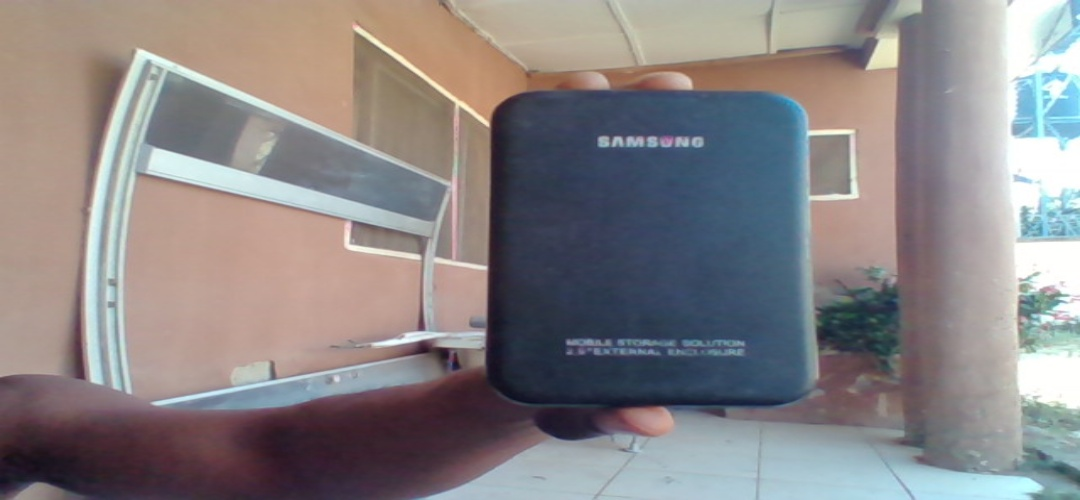hard_disk_case: (493, 93, 814, 407)
